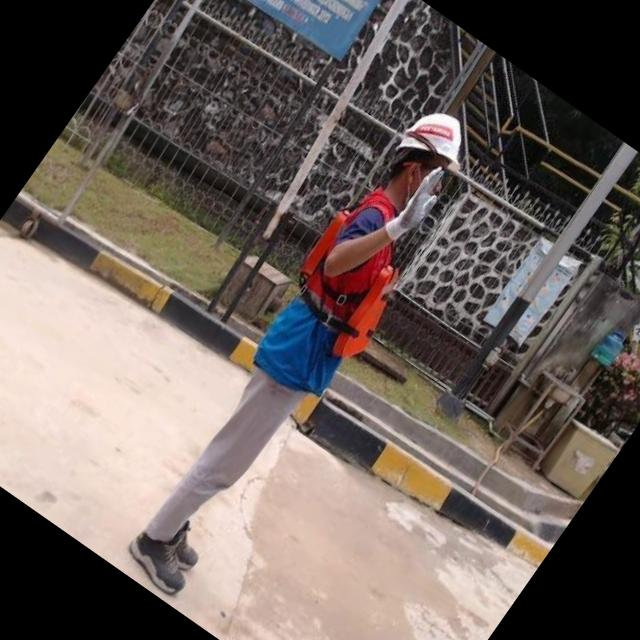hard_hat: (384, 90, 490, 196)
safety_vest: (256, 170, 449, 379)
vehicle: (52, 43, 544, 632)
work_boots: (111, 516, 208, 606), (160, 518, 216, 576)
